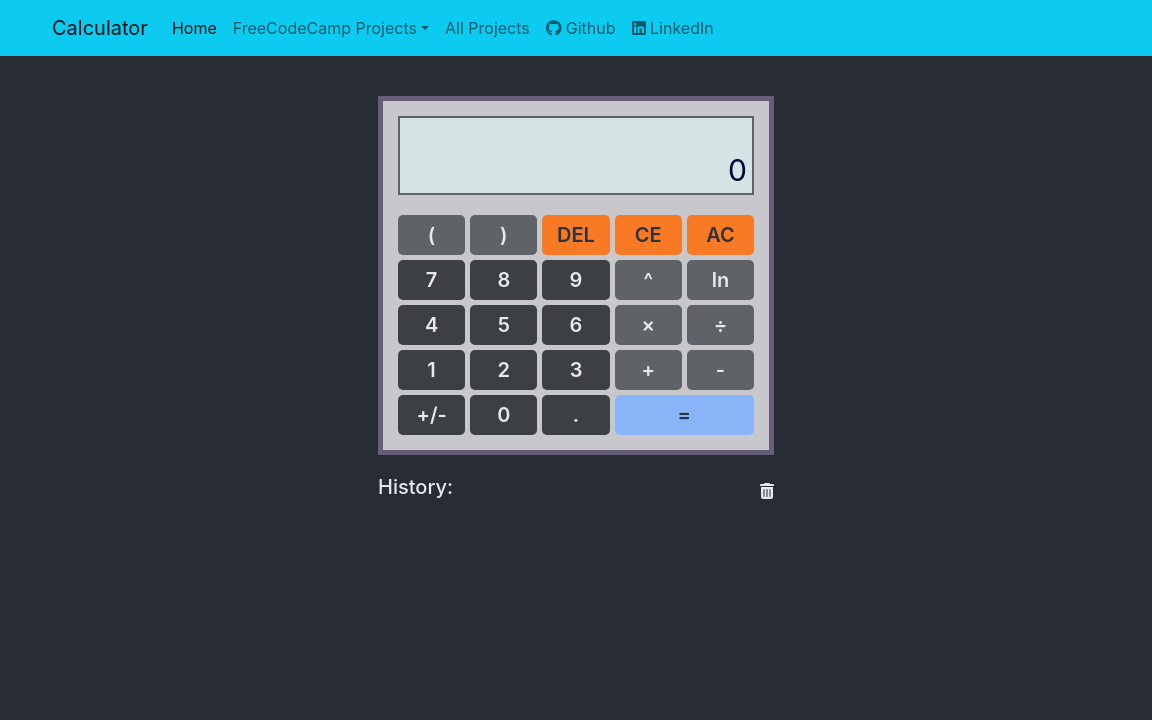
Test case: Has basic calculator functionality › Basic number entry function works correctly
The image size is (1152, 720).
Step 1. Click the button "1" → point(432, 370), box [398, 350, 465, 390]
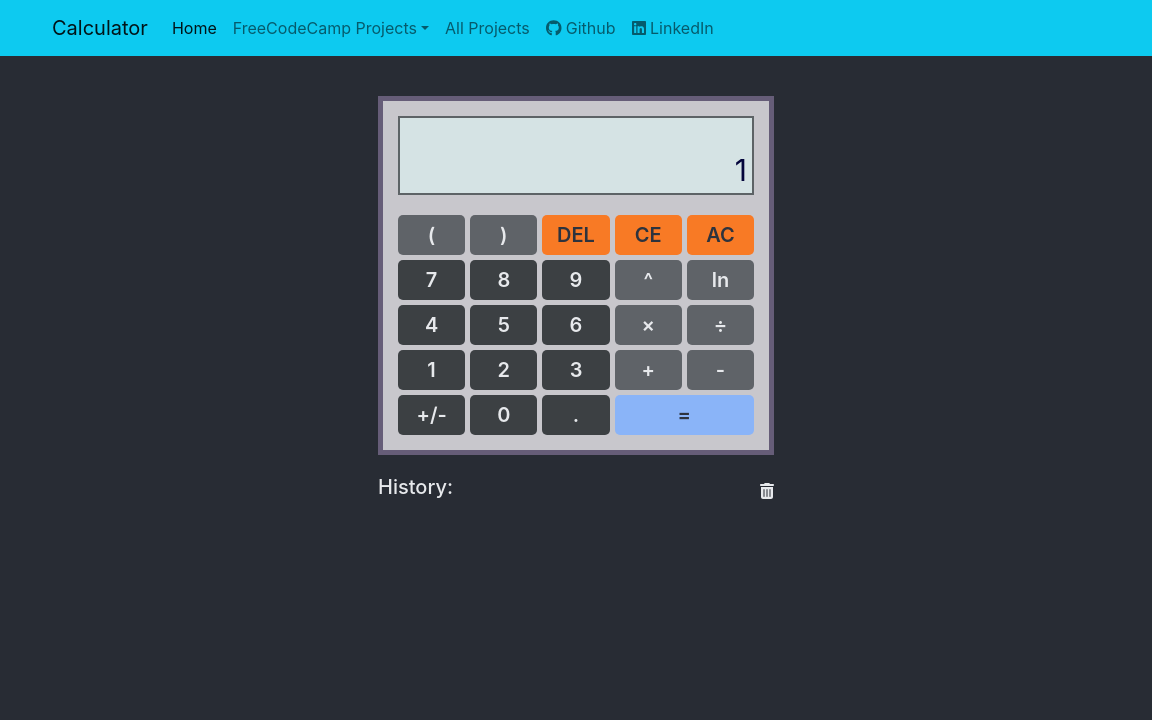
Step 2. Click the button "5" → point(504, 325), box [470, 305, 537, 345]
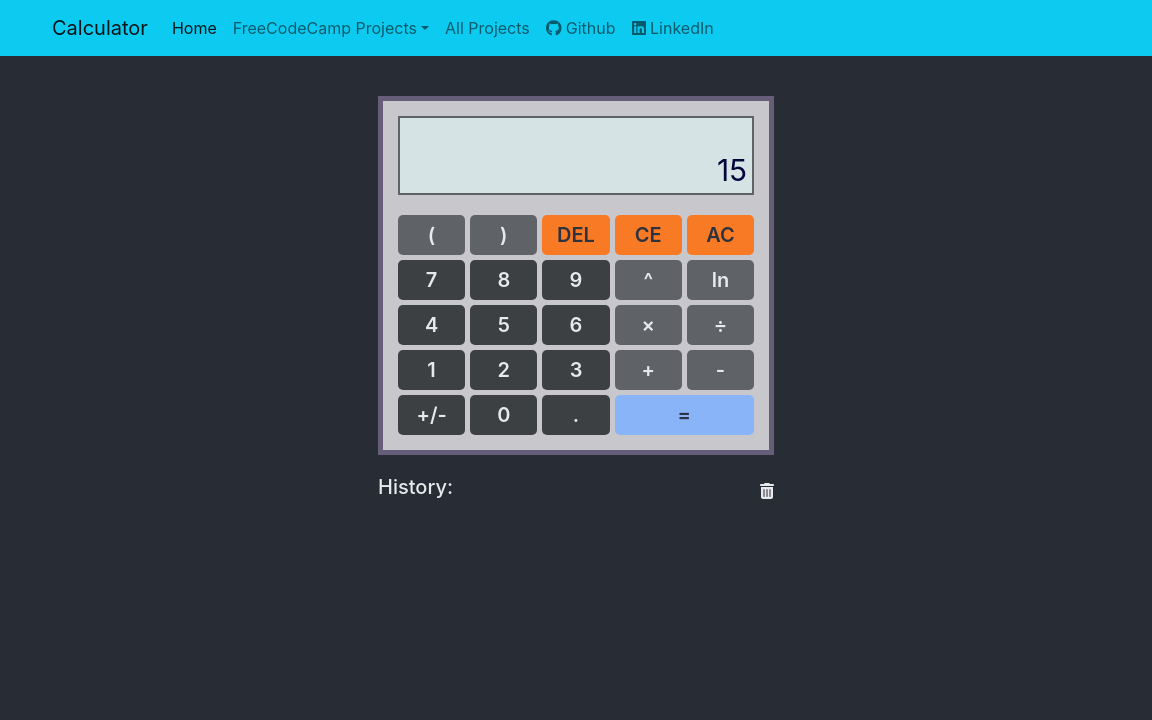
Step 3. Click the button "9" → point(576, 280), box [542, 260, 610, 300]
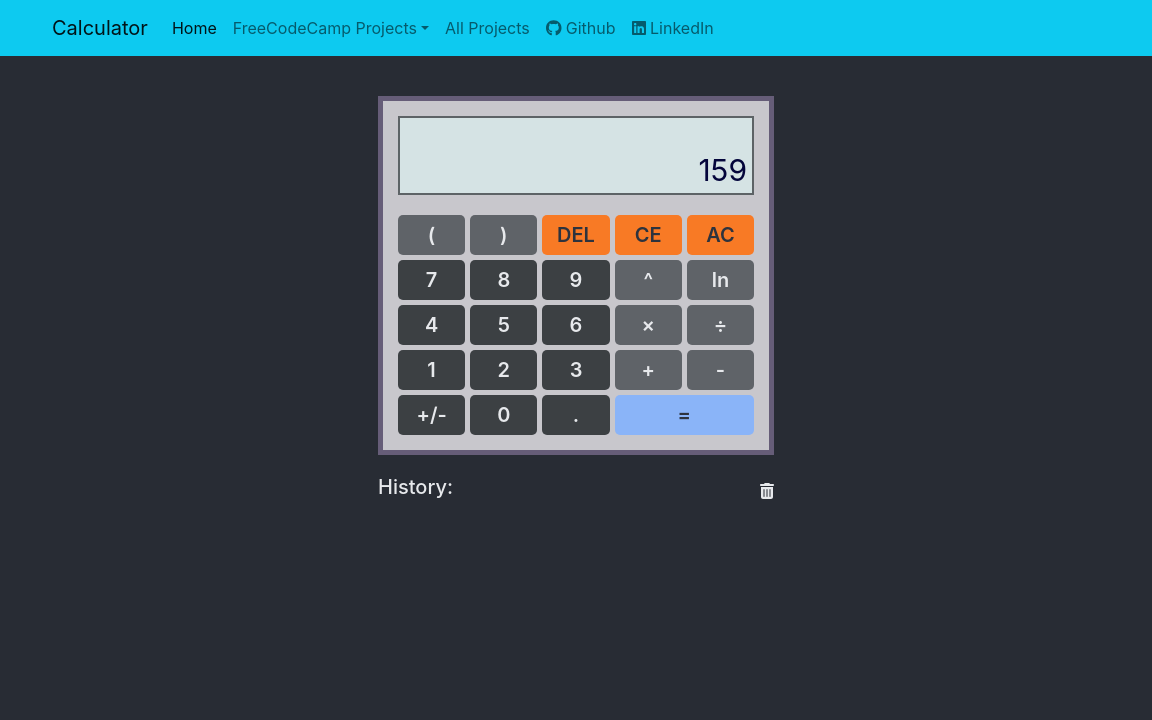
Check: the text with test id "number-display" reads "159", box [698, 152, 747, 188]
